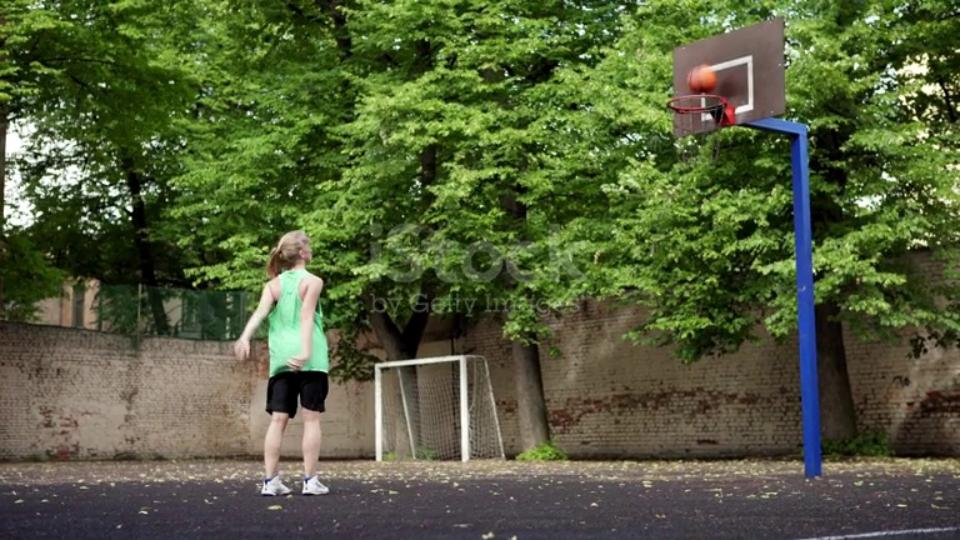hoop: (668, 95, 742, 125)
